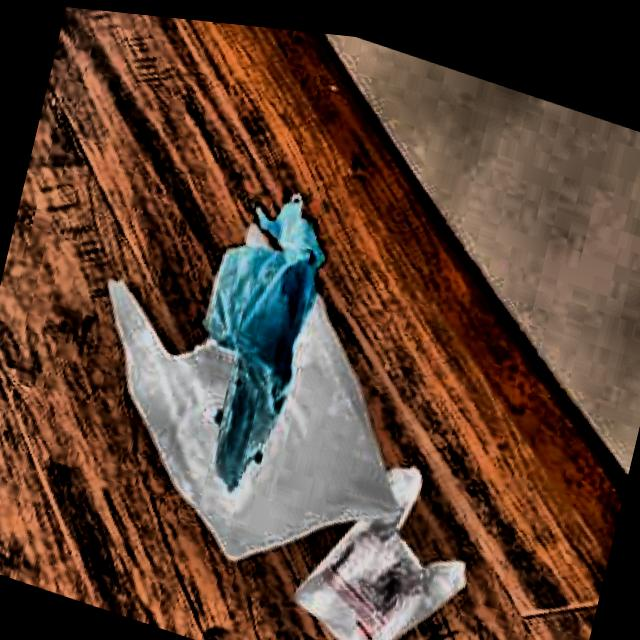Plastic: (43, 151, 460, 610), (160, 156, 346, 513), (275, 417, 493, 640)
